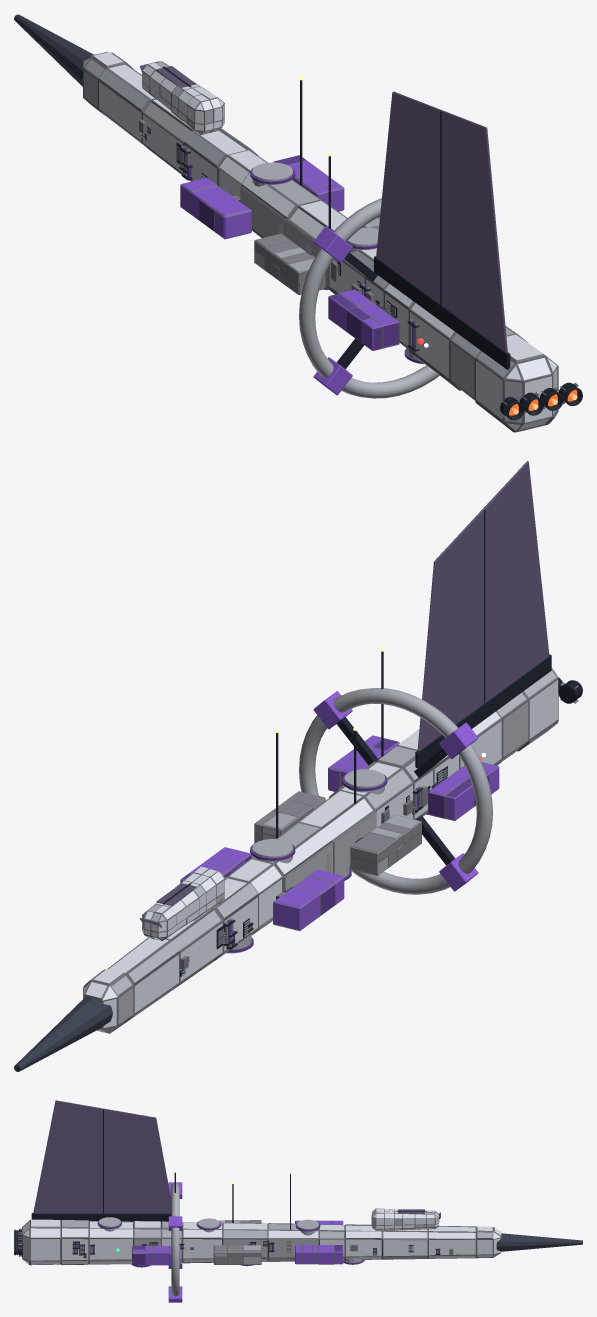
The model's file is oracle.glb.
3 views of the same model, one above another, from view 1: azimuth 30°, elevation 25°; view 2: azimuth 150°, elevation 25°; view 3: azimuth 270°, elevation 25° (orthographic). The views are drawn at different scales.
Visible parts, largest first — view 1: oracle_mesh, ring_mesh; view 2: oracle_mesh, ring_mesh; view 3: oracle_mesh, ring_mesh.
Boxes of the visible parts, x1,y1,x2,y2 form: oracle_mesh: (14, 14, 582, 432); ring_mesh: (299, 198, 439, 398); oracle_mesh: (14, 461, 582, 1071); ring_mesh: (299, 688, 492, 894); oracle_mesh: (14, 1100, 582, 1267); ring_mesh: (168, 1182, 182, 1302).
Bounding box in the file's own units: 12.44 × 21.95 × 59.33.
